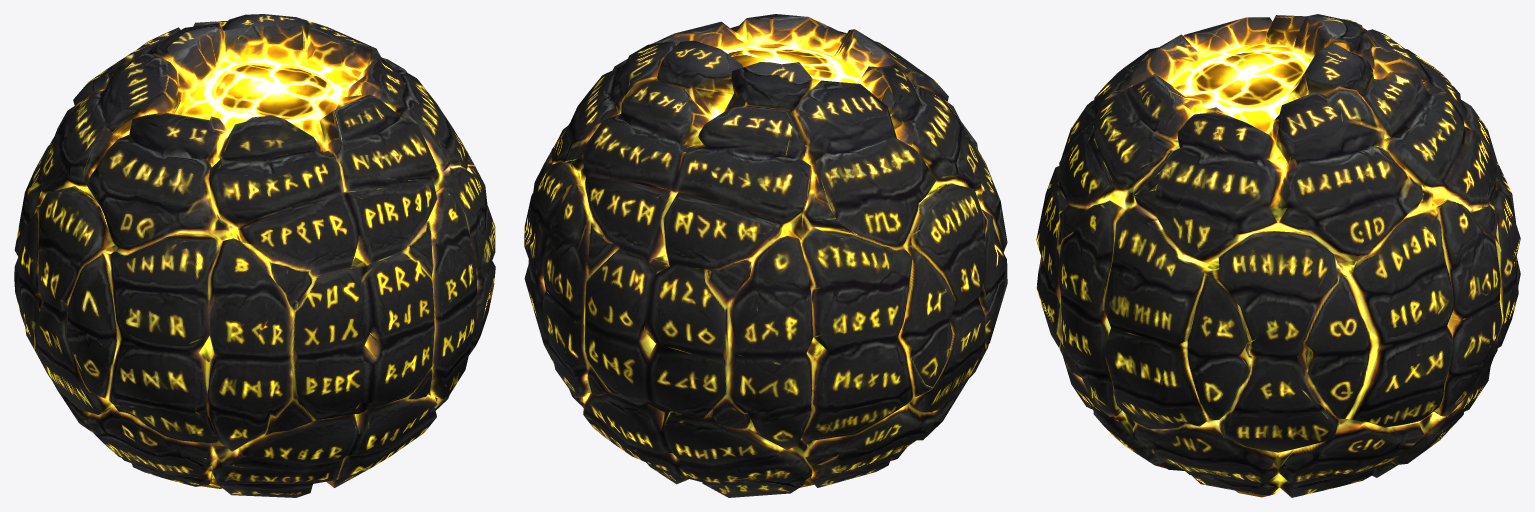
The model's file is EmberOrb.fbx.
3 renders of one model, left to right at view 1: azimuth 30°, elevation 25°; view 2: azimuth 150°, elevation 25°; view 3: azimuth 270°, elevation 25°, orthographic.
Visible parts, largest first — view 1: Mesh_0; view 2: Mesh_0; view 3: Mesh_0.
Boxes of the visible parts, x1,y1,x2,y2 form: Mesh_0: (14,14,495,497); Mesh_0: (524,14,1007,497); Mesh_0: (1036,14,1520,497).
Bounding box in the file's own units: 190 × 188 × 190.
Materials: 1 (1 with a texture image).
